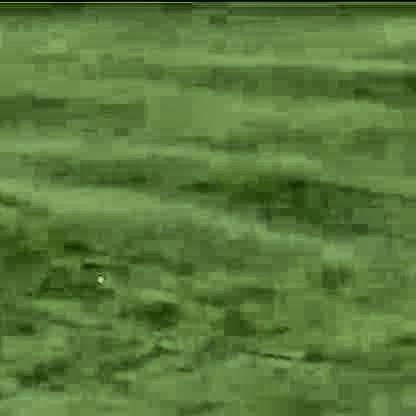golfball: (95, 270, 102, 280)
